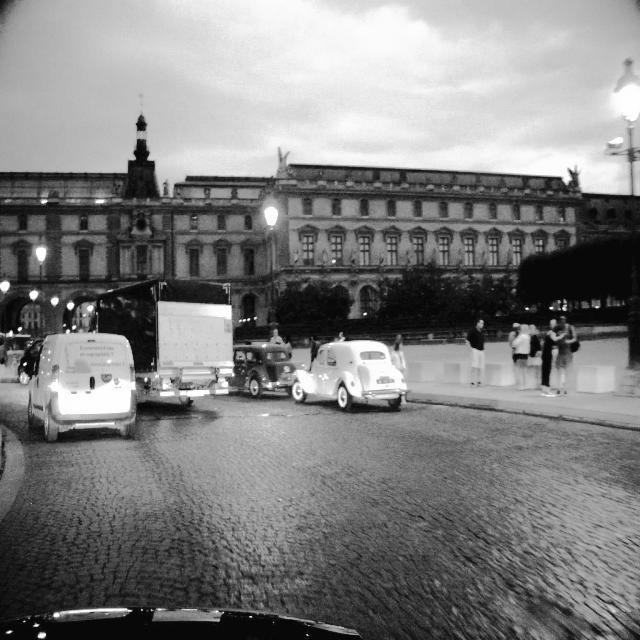Truck: (88, 279, 234, 405)
